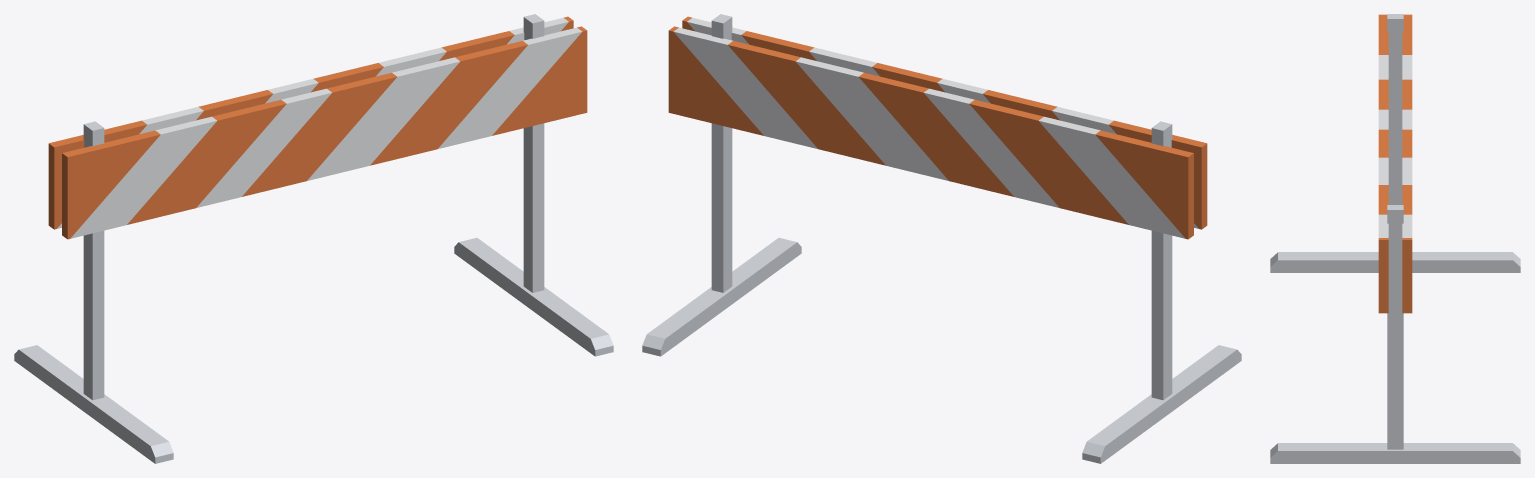
Rendered from Wood_Road_Block_Medium.glb.
The picture shows the model from 3 angles, left to right: view 1: azimuth 30°, elevation 25°; view 2: azimuth 150°, elevation 25°; view 3: azimuth 270°, elevation 25°; orthographic projection. The views are drawn at different scales.
Visible parts, largest first — view 1: Wood Road Block Medium; view 2: Wood Road Block Medium; view 3: Wood Road Block Medium.
Part boxes in pixels (bbox=[...]): Wood Road Block Medium: bbox=[14, 14, 613, 463]; Wood Road Block Medium: bbox=[642, 14, 1241, 463]; Wood Road Block Medium: bbox=[1270, 14, 1520, 463].
Bounding box in the file's own units: 13.22 × 6.91 × 6.21.
1 material, 1 textured.
